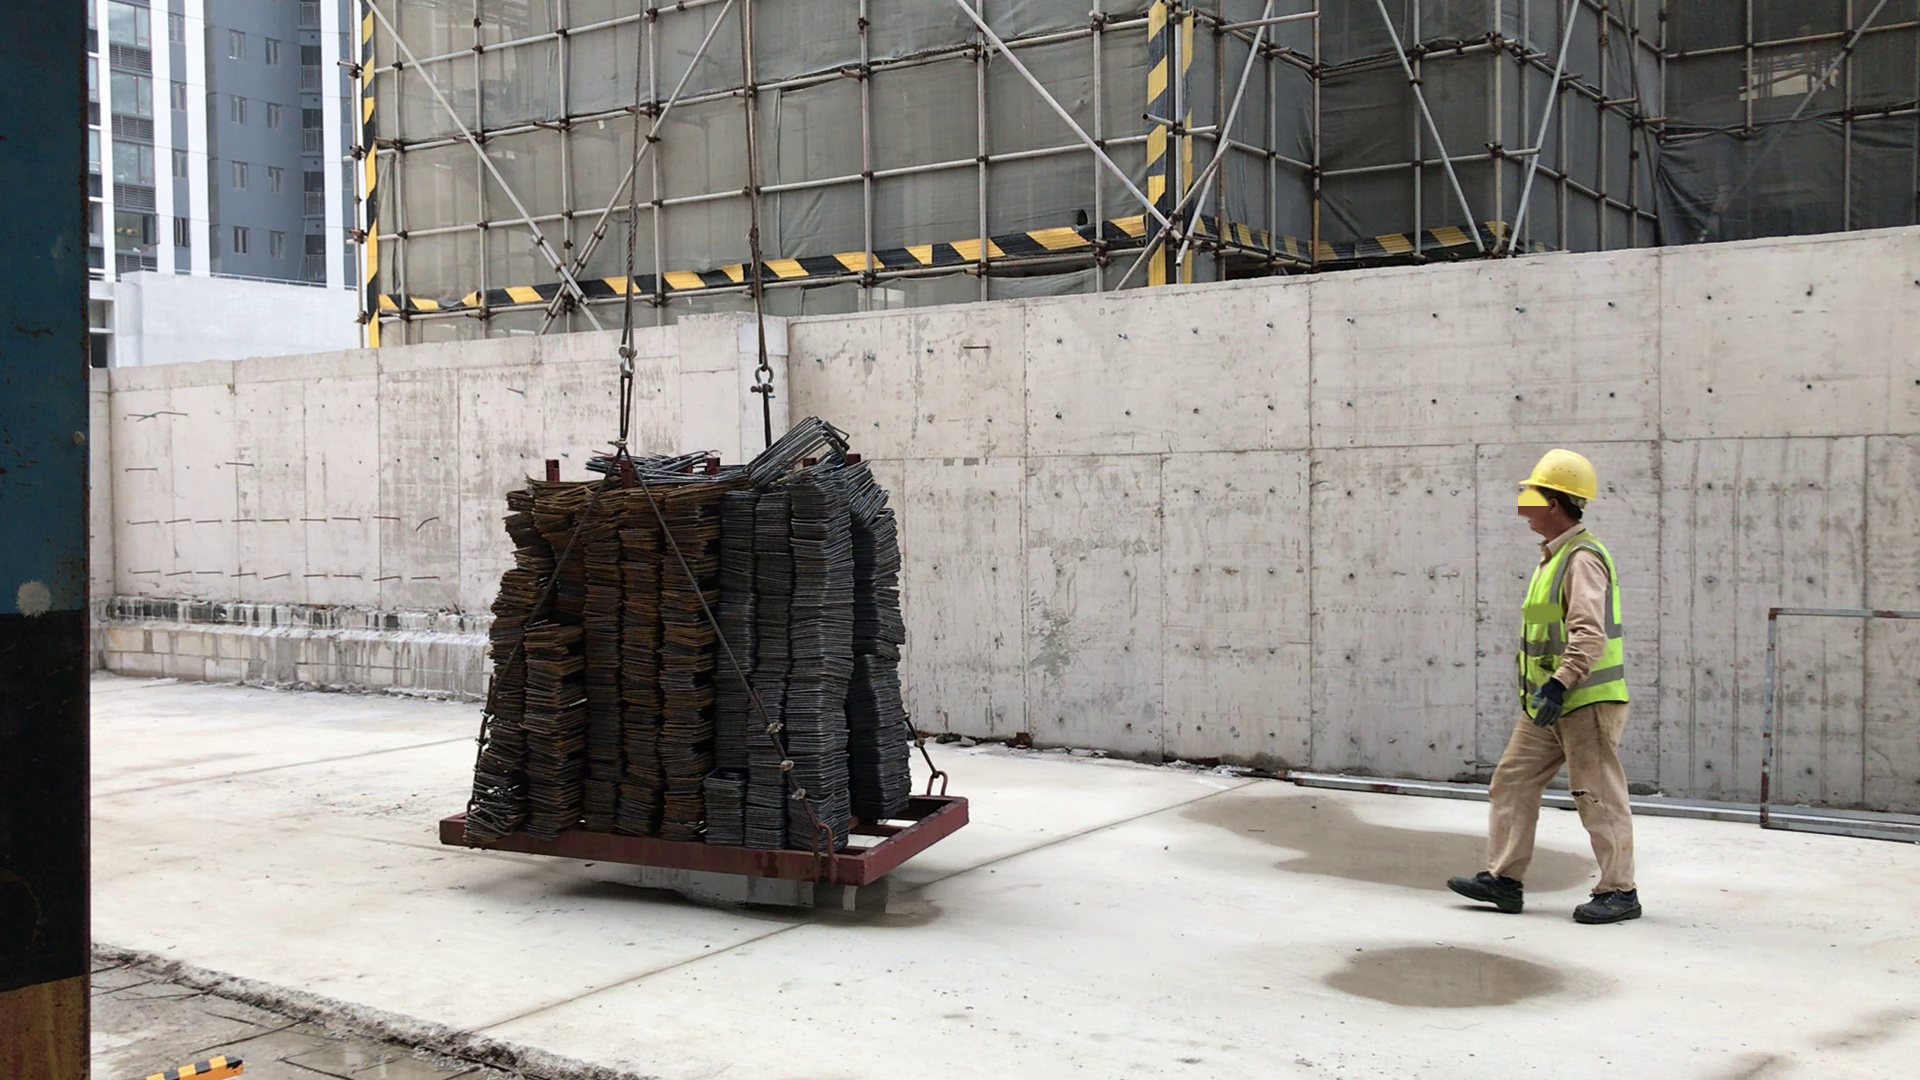helmet: (1518, 436, 1605, 519)
person: (1452, 419, 1649, 923)
vest: (1516, 553, 1643, 715)
